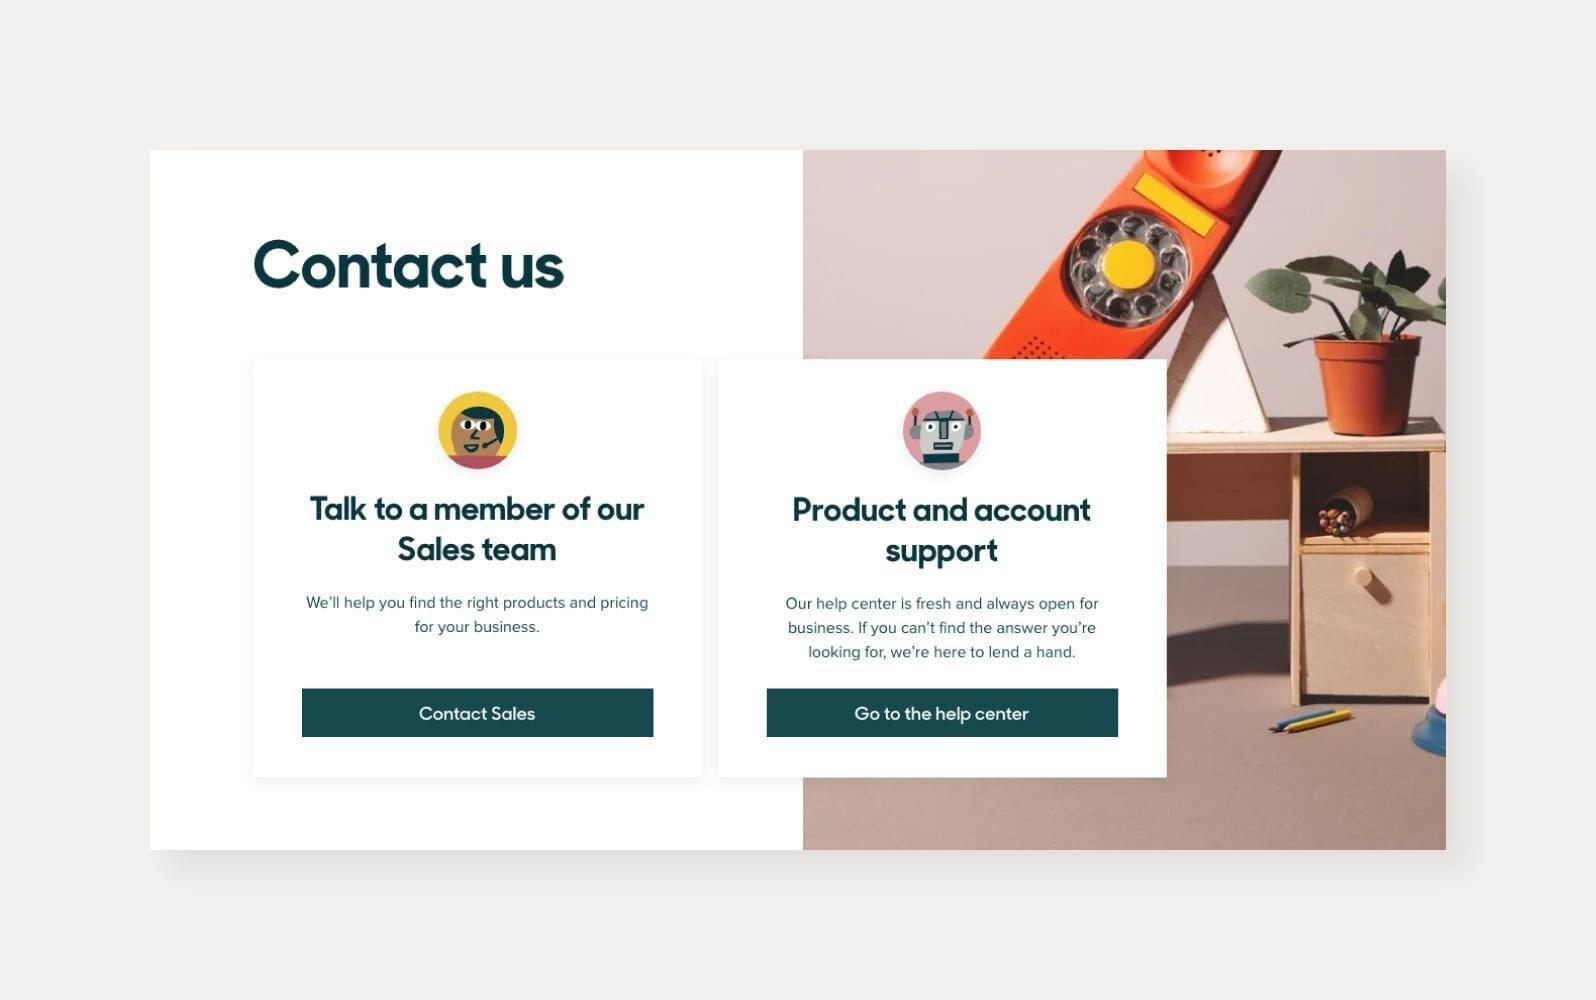button: (766, 689, 1122, 738), (301, 690, 655, 740)
